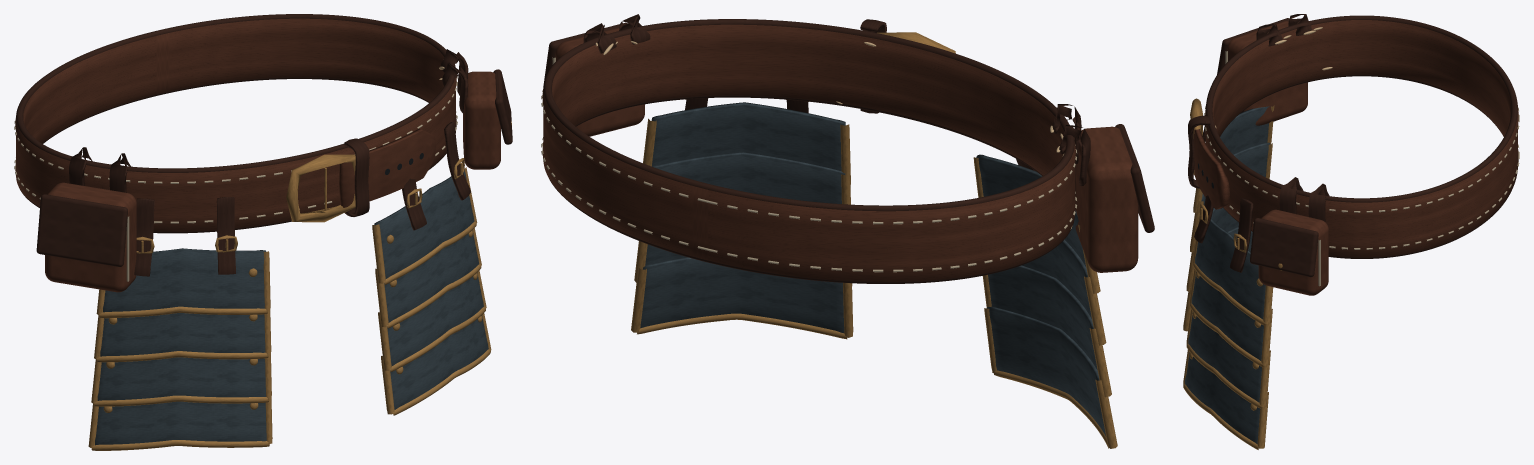
3 views of the same model, side by side, from view 1: azimuth 30°, elevation 25°; view 2: azimuth 150°, elevation 25°; view 3: azimuth 270°, elevation 25° (orthographic). The views are drawn at different scales.
Visible parts, largest first — view 1: tanned leather, blackened lamellar plate, oiled strap leather, aged alloy edge, waxed linen thread; view 2: tanned leather, blackened lamellar plate, oiled strap leather, aged alloy edge, waxed linen thread; view 3: tanned leather, blackened lamellar plate, oiled strap leather, aged alloy edge, waxed linen thread.
Part boxes in pixels (left/top/right/bottom): tanned leather: left=15, top=18, right=500, bottom=292; blackened lamellar plate: left=95, top=170, right=488, bottom=445; oiled strap leather: left=16, top=14, right=512, bottom=276; aged alloy edge: left=88, top=121, right=511, bottom=450; waxed linen thread: left=14, top=77, right=457, bottom=281; tanned leather: left=542, top=24, right=1138, bottom=281; blackened lamellar plate: left=640, top=102, right=1106, bottom=436; oiled strap leather: left=544, top=14, right=1154, bottom=283; aged alloy edge: left=631, top=32, right=1117, bottom=448; waxed linen thread: left=541, top=57, right=1077, bottom=272; tanned leather: left=1194, top=20, right=1518, bottom=295; blackened lamellar plate: left=1185, top=106, right=1270, bottom=444; oiled strap leather: left=1188, top=14, right=1517, bottom=277; aged alloy edge: left=1183, top=98, right=1282, bottom=449; waxed linen thread: left=1204, top=51, right=1519, bottom=286.
Bounding box in the file's own units: 0.4568 × 0.2523 × 0.2911.
Materials: 7 (5 with a texture image).
